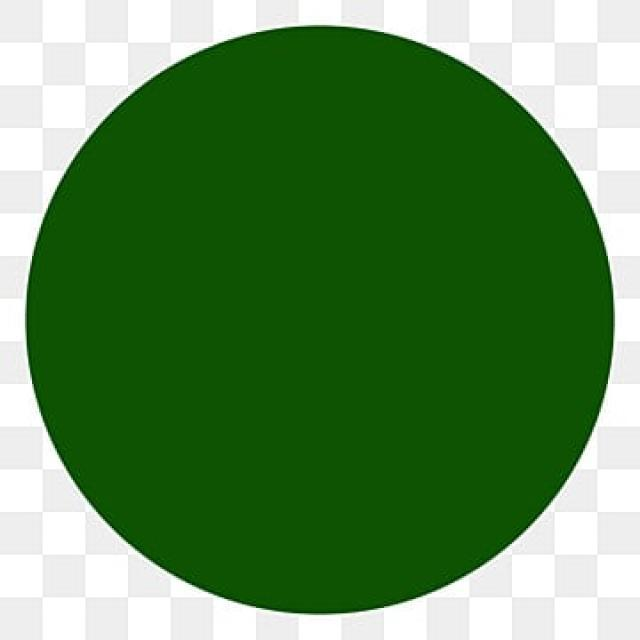Circle: (23, 25, 617, 617)
